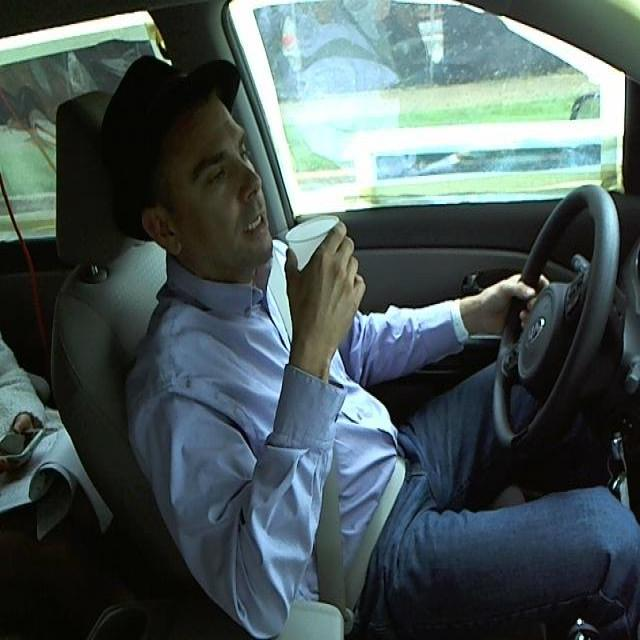drinking: (282, 214, 350, 319)
